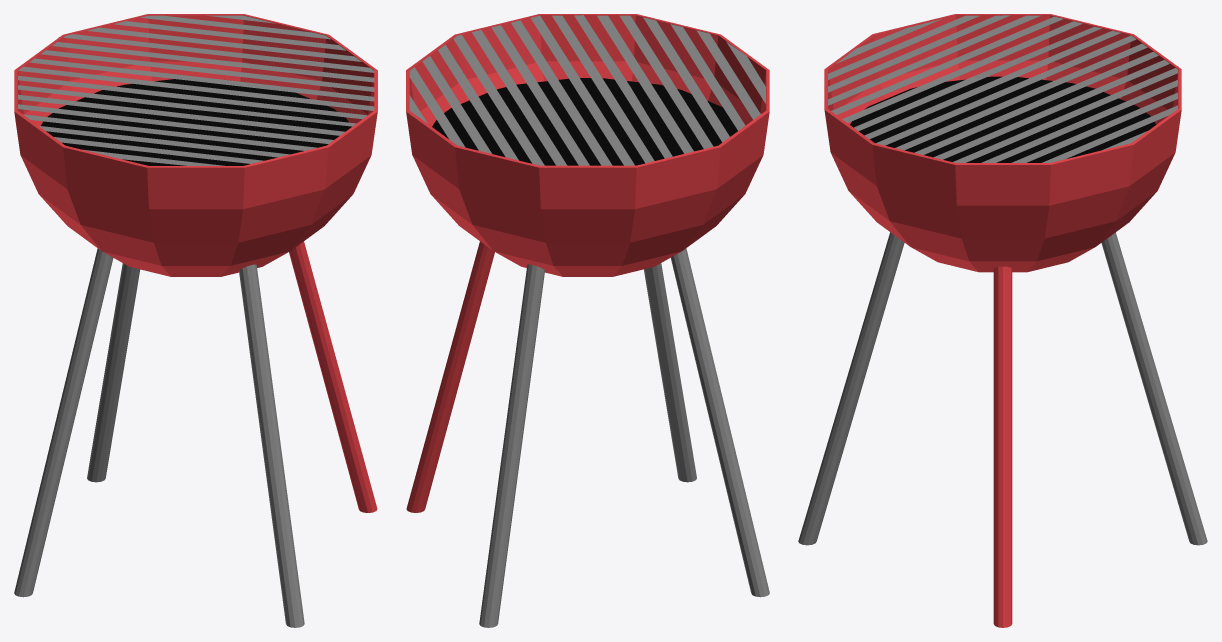
File: grill.fbx
The picture shows the model from 3 angles, left to right: view 1: azimuth 30°, elevation 25°; view 2: azimuth 150°, elevation 25°; view 3: azimuth 270°, elevation 25°; orthographic projection.
Visible parts, largest first — view 1: Cylinder.001, Circle; view 2: Cylinder.001, Circle; view 3: Cylinder.001, Circle.
Boxes of the visible parts, bbox=[...] form: Cylinder.001: bbox=[14, 14, 377, 627]; Circle: bbox=[41, 79, 351, 165]; Cylinder.001: bbox=[406, 14, 769, 627]; Circle: bbox=[432, 78, 737, 165]; Cylinder.001: bbox=[798, 14, 1207, 627]; Circle: bbox=[850, 76, 1156, 162].
Bounding box in the file's own units: 221 × 270 × 221.
